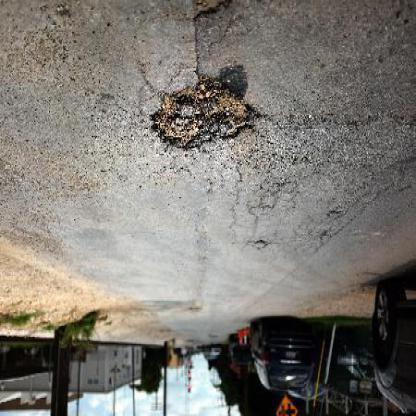pothole: (151, 80, 259, 152), (192, 2, 233, 26)
